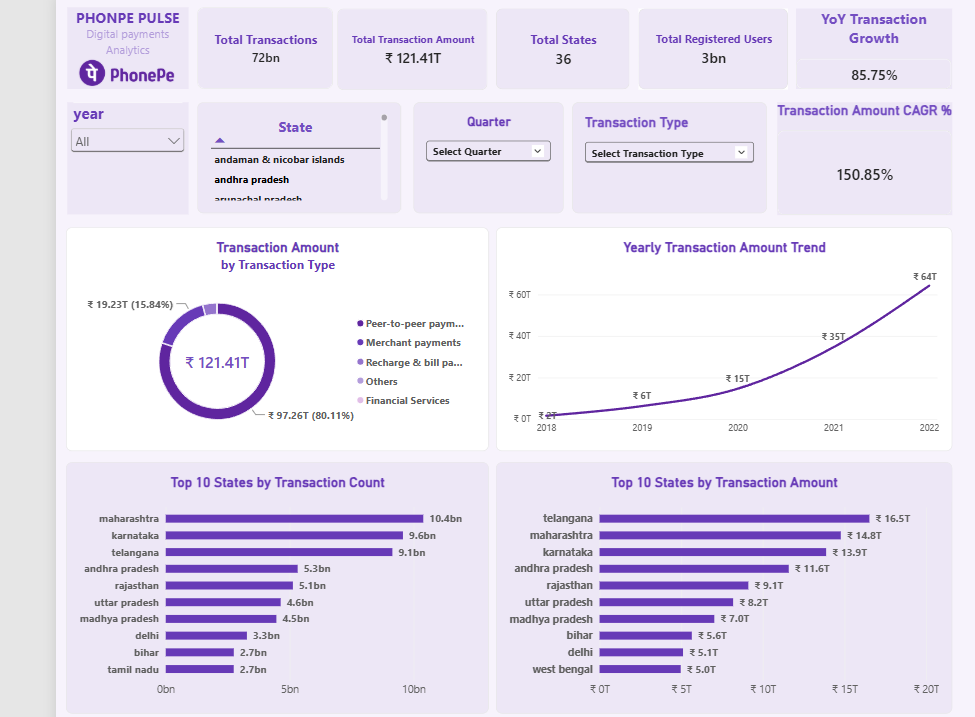

The page's visual inventory and layout, read from the dashboard file:
{"tool":"powerbi","page":{"name":"Executive Overview","canvas":[1920,1080],"ordinal":0},"visuals":[{"type":"cardVisual","fields":{"Data":["Sum(aggregated_transaction.Transaction Count)"]},"box":[184.6,15.4,178.9,107.4],"z":0},{"type":"cardVisual","title":"Total Transaction Amount","fields":{"Data":["Sum(aggregated_transaction.Transaction Amount)"]},"box":[369.5,15.8,197.9,107.4],"z":1},{"type":"slicer","fields":{"Values":["Dimyear.year"]},"box":[14.1,138.8,158.8,147.1],"z":3},{"type":"tableEx","fields":{"Values":["aggregated_transaction.State"]},"box":[184.7,140,267.1,145.9],"z":5},{"type":"cardVisual","title":"Total States","fields":{"Data":["Count(aggregated_transaction.State)"]},"box":[576.9,16.5,175.8,106.6],"z":6},{"type":"cardVisual","title":"Total Registered Users","fields":{"Data":["Sum(aggregated_user.user_counts)"]},"box":[764,16,196,106.7],"z":7},{"type":"listSlicer","fields":{"Values":["Dimquarter.Quarter"]},"box":[468.2,140,196.5,145.9],"z":8},{"type":"donutChart","title":" Transaction Amount","fields":{"Category":["aggregated_transaction.Transaction Type"],"Y":["Sum(aggregated_transaction.Transaction Amount)"]},"box":[13.1,303.3,554.1,293.4],"z":9},{"type":"lineChart","title":"Yearly Transaction Amount Trend","fields":{"Category":["aggregated_transaction.Year"],"Y":["Sum(aggregated_transaction.Transaction Amount)"]},"box":[577,303.3,598.4,293.4],"z":10},{"type":"clusteredBarChart","title":"Top 10 States by Transaction Amount","fields":{"Category":["Dimstate.State"],"Y":["Sum(aggregated_transaction.Transaction Amount)"]},"box":[577,611.5,598.4,329.5],"z":11},{"type":"clusteredBarChart","title":"Top 10 States by Transaction Count","fields":{"Category":["Dimstate.State"],"Y":["Sum(aggregated_transaction.Transaction Count)"]},"box":[13.1,611.5,554.1,329.5],"z":12},{"type":"textbox","box":[14.1,15.3,158.8,107.1],"z":13},{"type":"textbox","box":[1540,13,380,275],"z":14},{"type":"image","box":[28.6,78,129.7,45.1],"z":15},{"type":"listSlicer","fields":{"Values":["aggregated_transaction.Transaction Type"]},"box":[677.6,140,255.3,145.9],"z":16},{"type":"cardVisual","title":"YoY Transaction Growth","fields":{"Data":["aggregated_transaction.YoY Growth %"]},"box":[970.6,16.5,204.7,105.9],"z":17},{"type":"cardVisual","title":"Transaction Amount CAGR %","fields":{"Data":["aggregated_transaction.CAGR %"]},"box":[945.9,140,229.4,148.2],"z":18}]}

Visuals, with their boxes on the page's 1920x1080 design canvas (x1, y1, x2, y2). These are canvas units, not pixel positions in the 975x717 screenshot, which may show the page scaled, cropped or inside an application window:
cardVisual - Sum(aggregated_transaction.Transaction Count): {"x1": 185, "y1": 15, "x2": 364, "y2": 123}
"Total Transaction Amount" cardVisual: {"x1": 370, "y1": 16, "x2": 567, "y2": 123}
slicer - Dimyear.year: {"x1": 14, "y1": 139, "x2": 173, "y2": 286}
tableEx - aggregated_transaction.State: {"x1": 185, "y1": 140, "x2": 452, "y2": 286}
"Total States" cardVisual: {"x1": 577, "y1": 16, "x2": 753, "y2": 123}
"Total Registered Users" cardVisual: {"x1": 764, "y1": 16, "x2": 960, "y2": 123}
listSlicer - Dimquarter.Quarter: {"x1": 468, "y1": 140, "x2": 665, "y2": 286}
" Transaction Amount" donutChart: {"x1": 13, "y1": 303, "x2": 567, "y2": 597}
"Yearly Transaction Amount Trend" lineChart: {"x1": 577, "y1": 303, "x2": 1175, "y2": 597}
"Top 10 States by Transaction Amount" clusteredBarChart: {"x1": 577, "y1": 612, "x2": 1175, "y2": 941}
"Top 10 States by Transaction Count" clusteredBarChart: {"x1": 13, "y1": 612, "x2": 567, "y2": 941}
textbox: {"x1": 14, "y1": 15, "x2": 173, "y2": 122}
textbox: {"x1": 1540, "y1": 13, "x2": 1920, "y2": 288}
image: {"x1": 29, "y1": 78, "x2": 158, "y2": 123}
listSlicer - aggregated_transaction.Transaction Type: {"x1": 678, "y1": 140, "x2": 933, "y2": 286}
"YoY Transaction Growth" cardVisual: {"x1": 971, "y1": 16, "x2": 1175, "y2": 122}
"Transaction Amount CAGR %" cardVisual: {"x1": 946, "y1": 140, "x2": 1175, "y2": 288}
